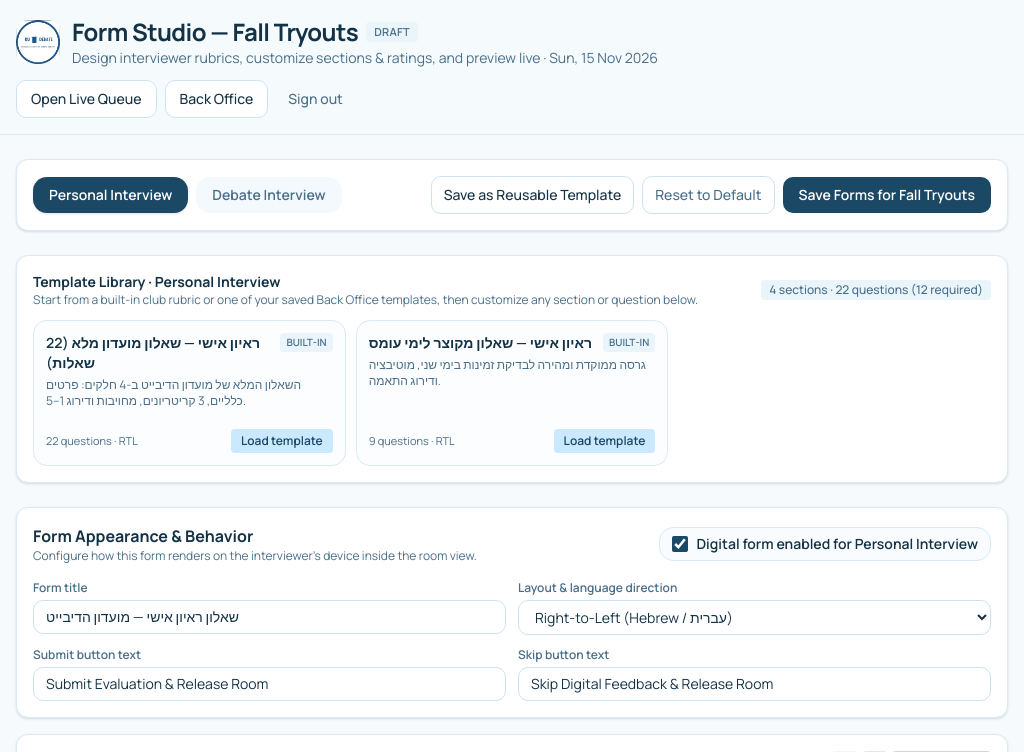
Test: FormStudio — Back Office Form Builder › loads an English LTR template and updates the live preview direction
This screenshot has width=1024, height=752.
Expected: the heading "Form Studio — Fall Tryouts" is shown, [72,16,358,48]
Click the tab "Debate Interview".
click(269, 195)  # box [196,177,342,213]
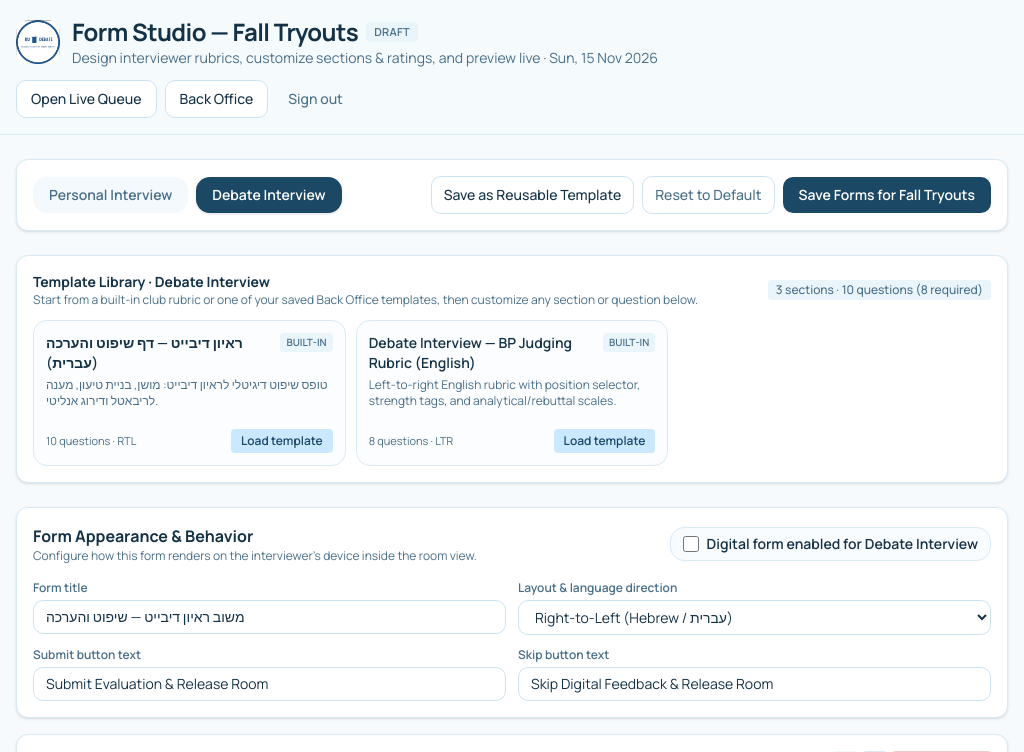
Click the button with aria-label "Load template Debate Interview — BP Judging Rubric (English)".
click(604, 441)  # box [554,429,655,453]
(page scrolled)
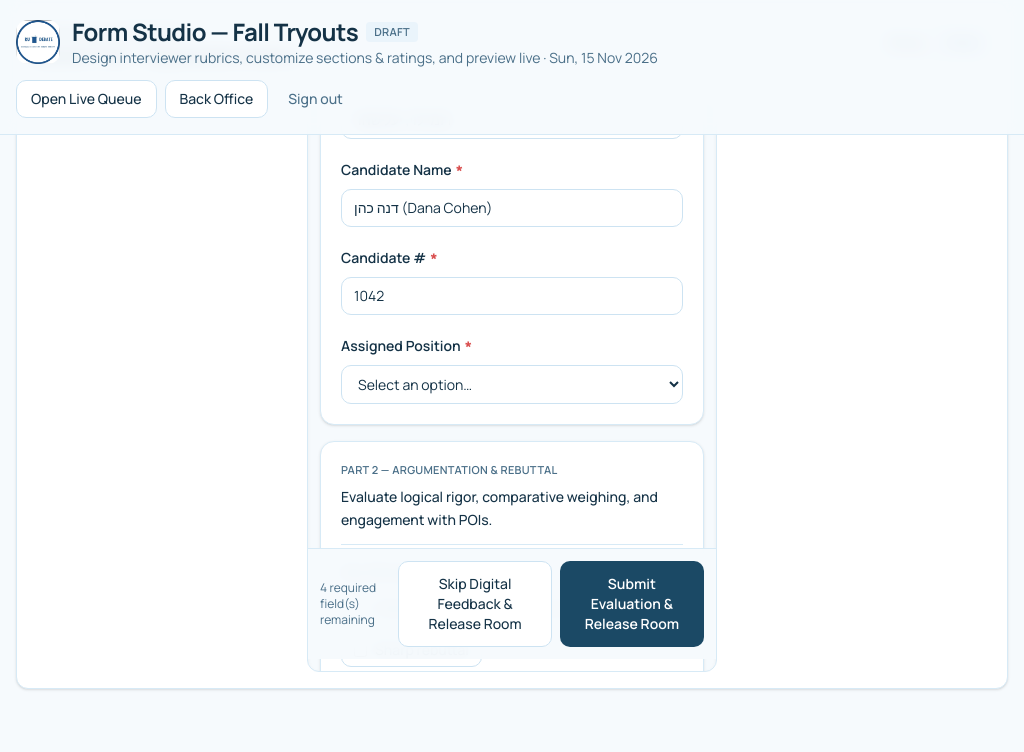
Now the dropdown labelled "Assigned Position" is shown, box [341,364,683,404]
